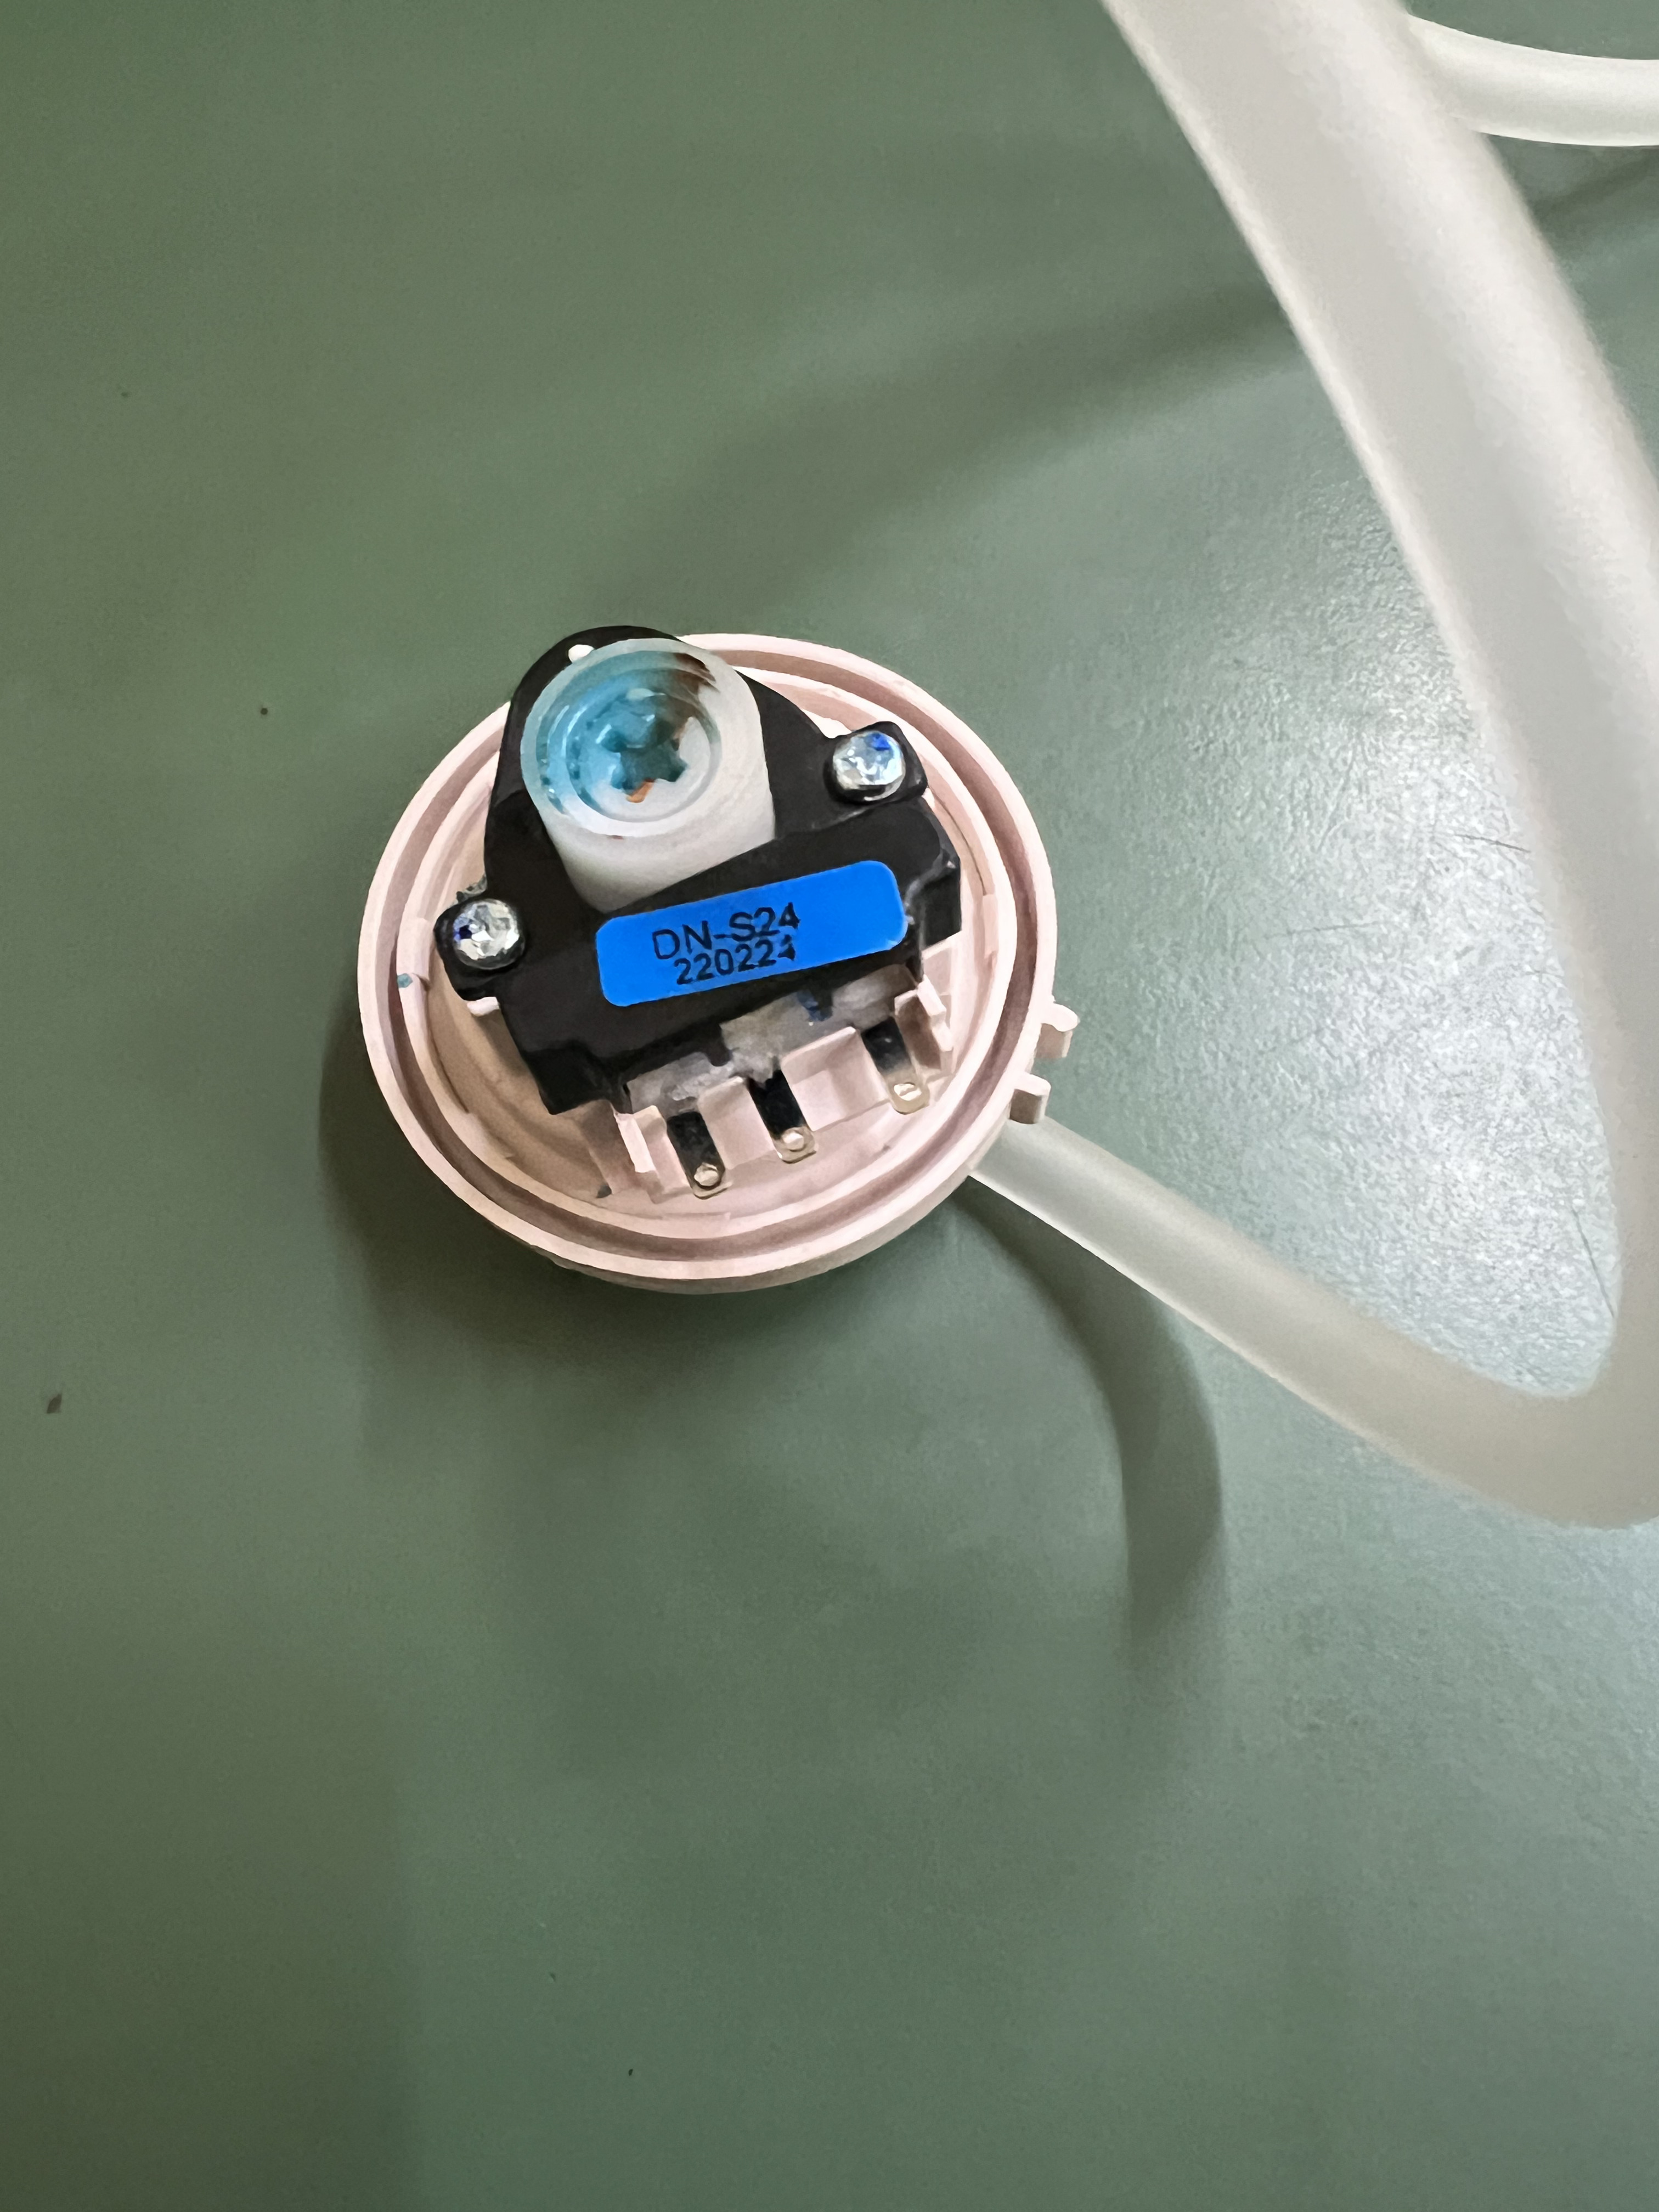pressure_sensor: (333, 599, 1300, 1386)
